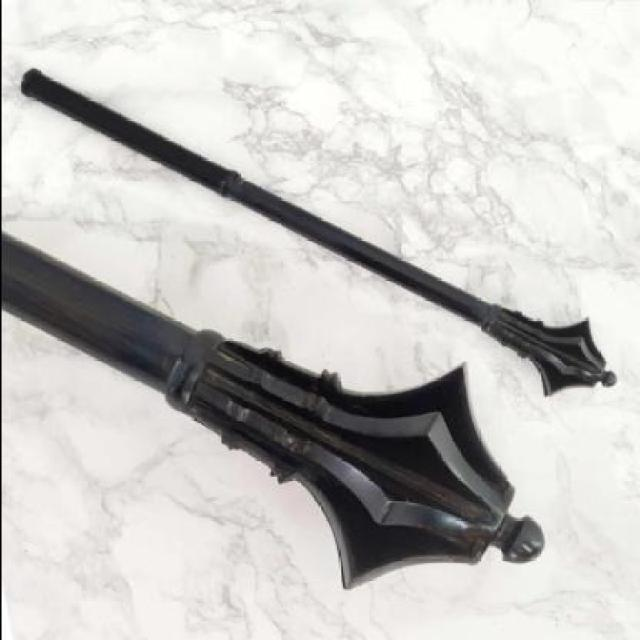weapon: (2, 227, 546, 596), (20, 65, 618, 390), (626, 342, 628, 346)
